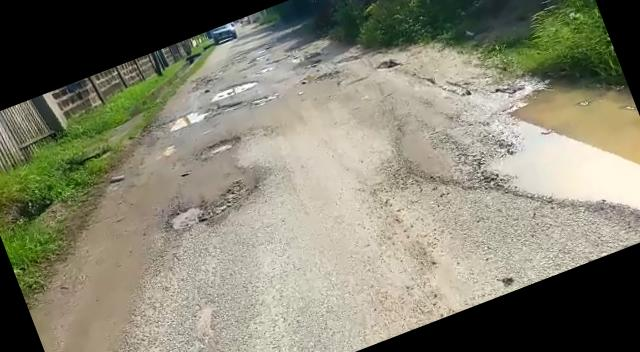pothole: (458, 51, 640, 282), (157, 179, 250, 237), (150, 102, 217, 138), (207, 75, 260, 104), (196, 132, 240, 159)
